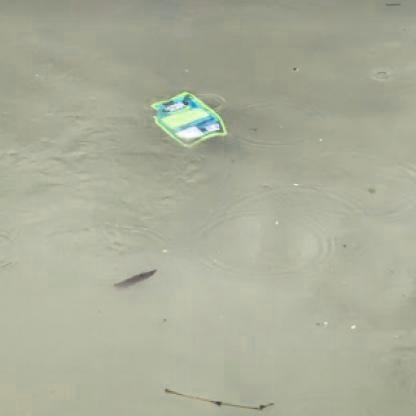Trash: (147, 90, 229, 150)
